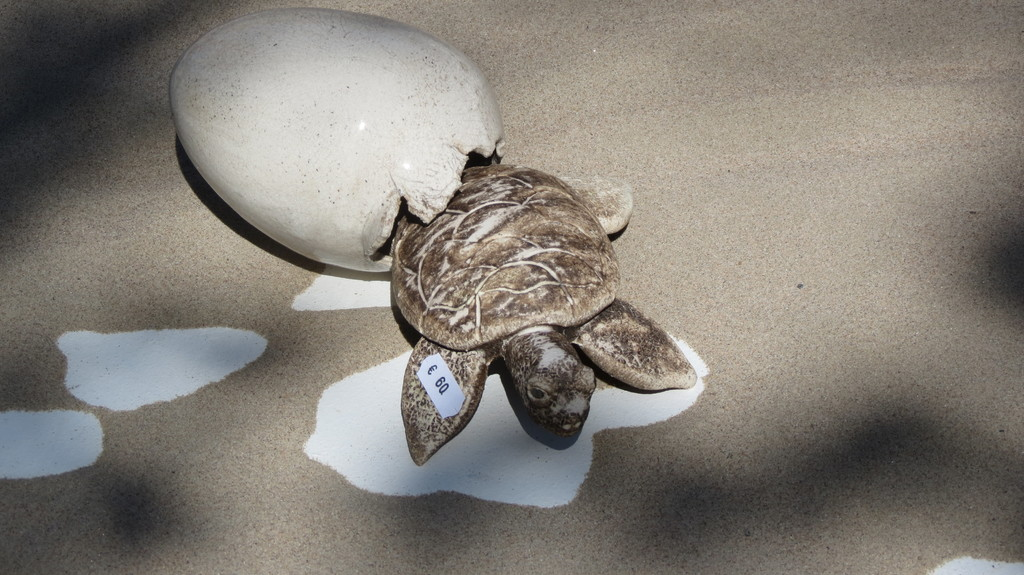Sea turtles: (385, 153, 695, 466)
